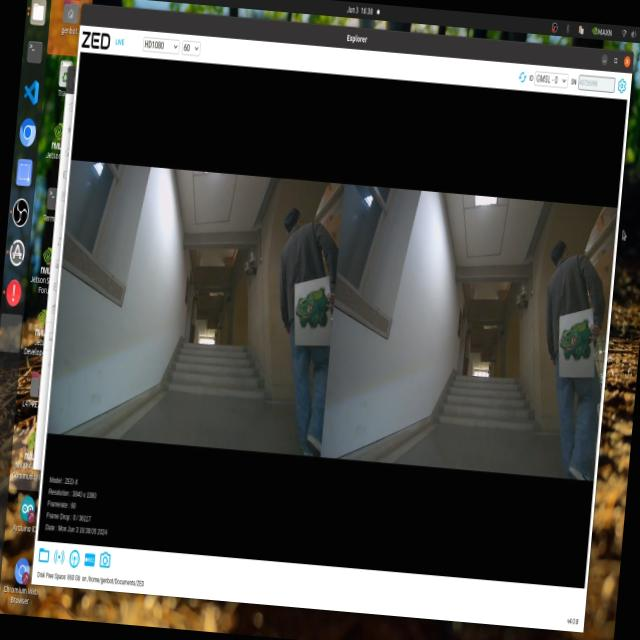green: (288, 286, 338, 336), (557, 308, 598, 365)
